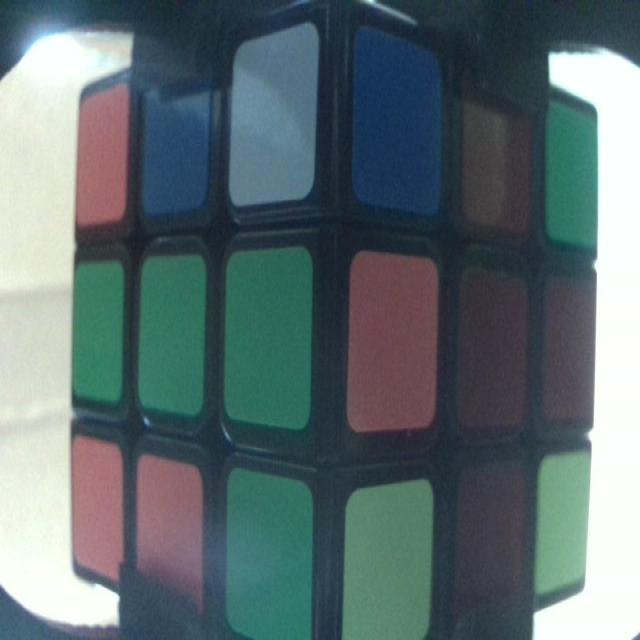b: (356, 37, 442, 212), (140, 80, 207, 212)
g: (229, 472, 314, 632), (228, 257, 306, 419), (138, 262, 204, 414), (72, 267, 125, 401), (545, 107, 599, 237)
o: (351, 255, 437, 425), (136, 457, 201, 616), (72, 444, 124, 572), (77, 101, 127, 220)
r: (460, 276, 525, 432), (469, 82, 534, 230), (460, 473, 522, 611), (545, 281, 593, 424)
w: (234, 44, 314, 199)
y: (350, 494, 430, 640), (538, 458, 585, 594)
